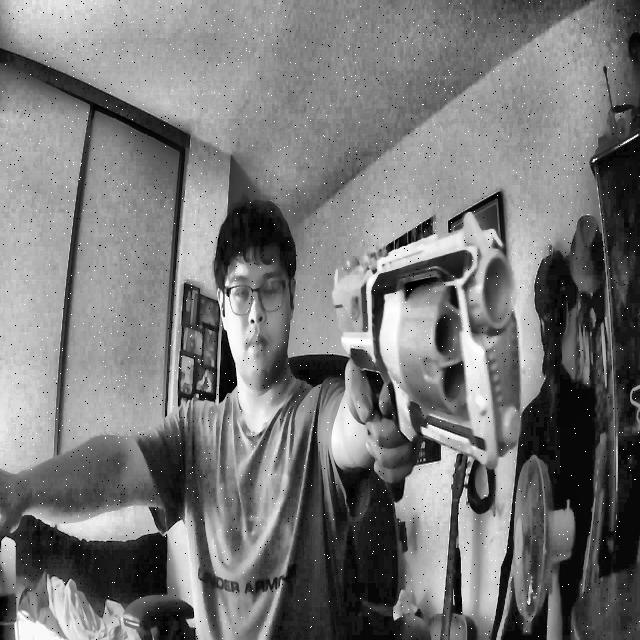Nerf_Blaster: (331, 208, 522, 472)
